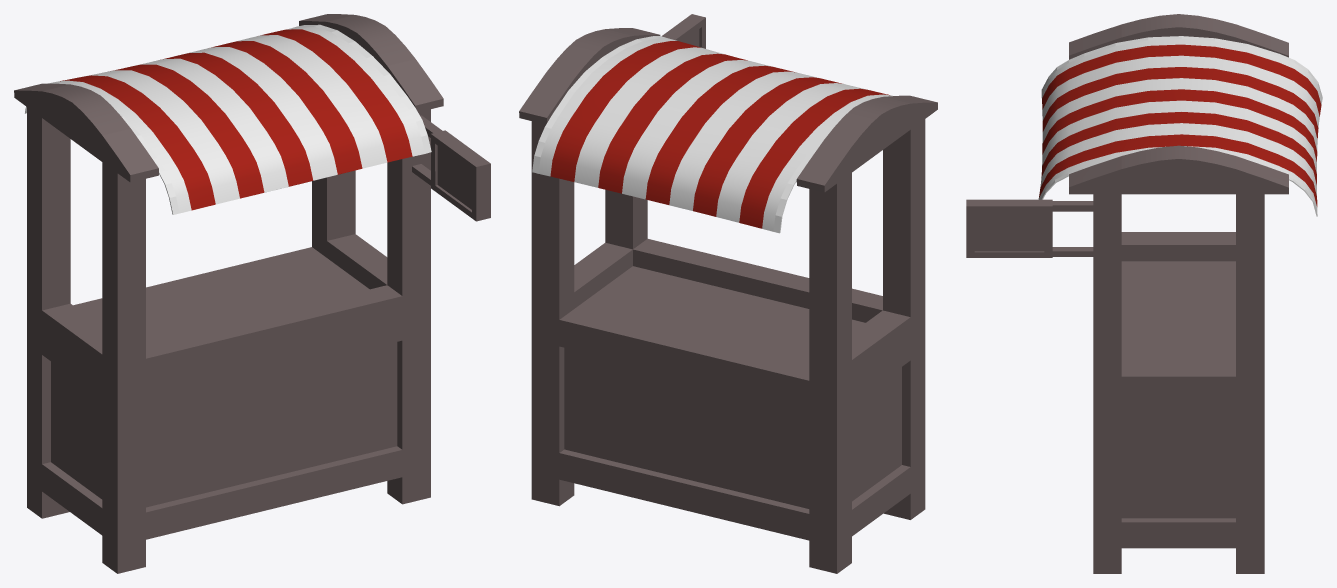
The model's file is Market_Stool_A_low.fbx.
3 views of the same model, side by side, from view 1: azimuth 30°, elevation 25°; view 2: azimuth 150°, elevation 25°; view 3: azimuth 270°, elevation 25° (orthographic). The views are drawn at different scales.
Visible parts, largest first — view 1: Market_Stool_A_low; view 2: Market_Stool_A_low; view 3: Market_Stool_A_low.
Boxes of the visible parts, x1,y1,x2,y2 form: Market_Stool_A_low: [14, 14, 490, 573]; Market_Stool_A_low: [519, 14, 937, 573]; Market_Stool_A_low: [966, 14, 1322, 573].
Bounding box in the file's own units: 168 × 224 × 174.
